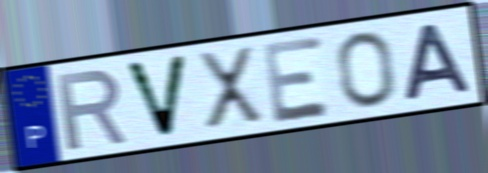A: (402, 21, 475, 104)
E: (260, 32, 334, 126)
O: (333, 29, 399, 109)
R: (53, 67, 131, 154)
V: (120, 52, 191, 142)
X: (195, 43, 268, 132)
